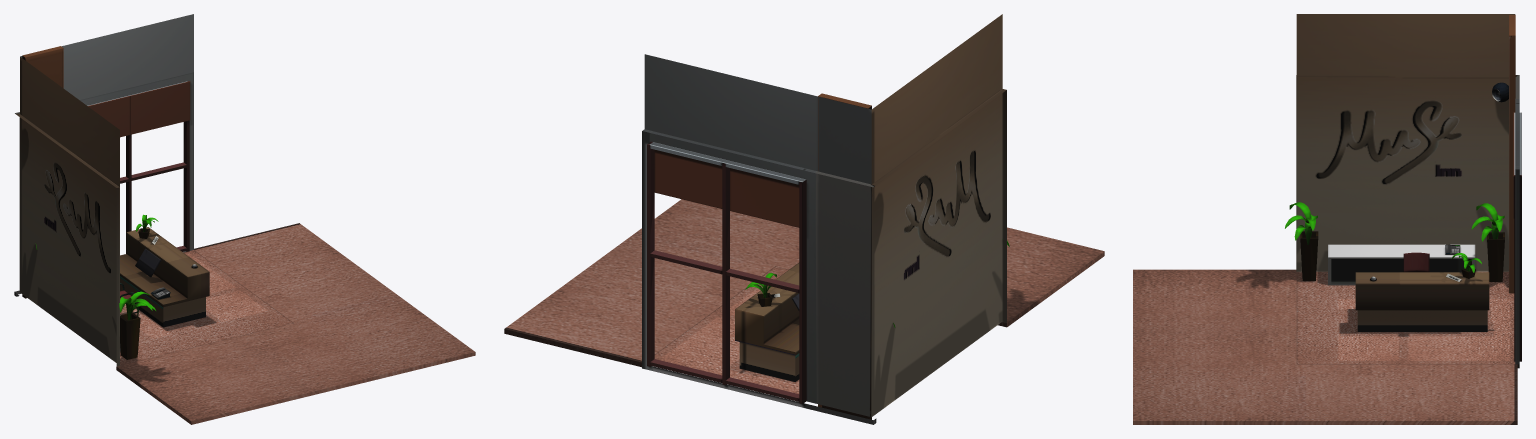
File: Tx_Interior_Work_HotelFrontDeskT2.fbx
3 views of the same model, side by side, from view 1: azimuth 30°, elevation 25°; view 2: azimuth 150°, elevation 25°; view 3: azimuth 270°, elevation 25° (orthographic). The views are drawn at different scales.
Visible parts, largest first — view 1: Tx_Intrerior_HotelFrontDeskT2; view 2: Tx_Intrerior_HotelFrontDeskT2; view 3: Tx_Intrerior_HotelFrontDeskT2.
Part boxes in pixels (x1,y1,x2,y2): Tx_Intrerior_HotelFrontDeskT2: (14, 14, 475, 424); Tx_Intrerior_HotelFrontDeskT2: (504, 14, 1104, 424); Tx_Intrerior_HotelFrontDeskT2: (1133, 14, 1521, 424).
Bounding box in the file's own units: 36.43 × 29.52 × 39.53.
1 material, 1 textured.
